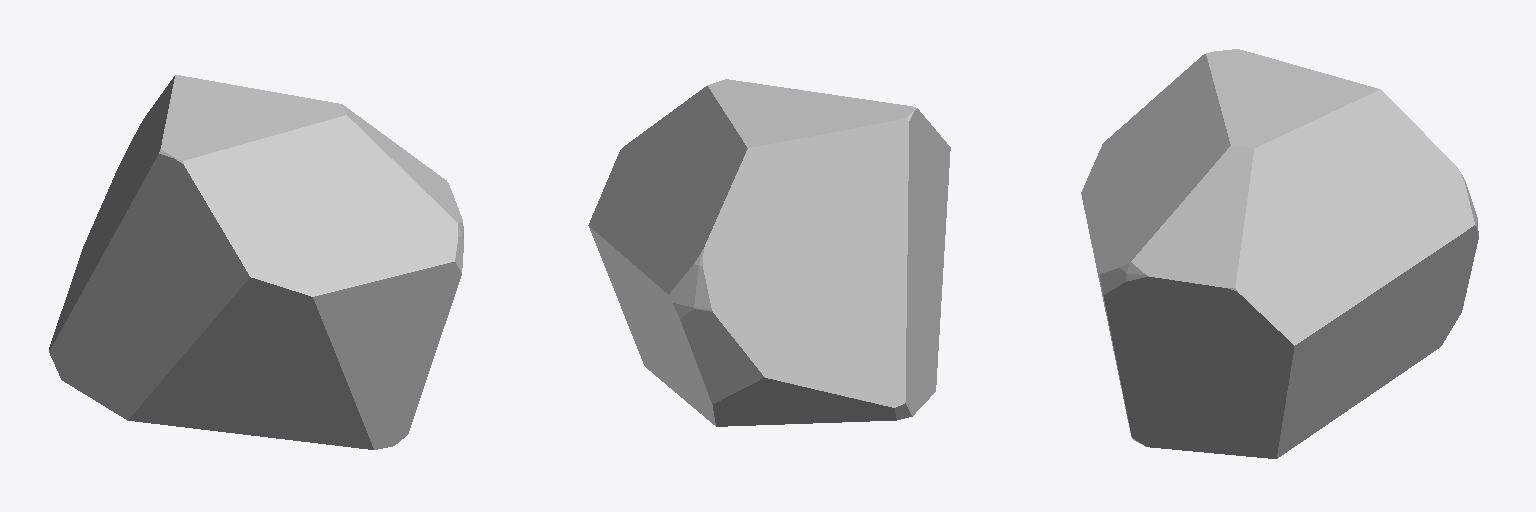
The model's file is rock1.obj.
The picture shows the model from 3 angles: view 1: azimuth 30°, elevation 25°; view 2: azimuth 150°, elevation 25°; view 3: azimuth 270°, elevation 25°; orthographic projection.
Visible parts, largest first — view 1: Cube_Cube.002; view 2: Cube_Cube.002; view 3: Cube_Cube.002.
Boxes of the visible parts, box(x1,y1,x2,y2) form: Cube_Cube.002: box(49, 75, 463, 449); Cube_Cube.002: box(588, 79, 950, 426); Cube_Cube.002: box(1081, 49, 1478, 458).
Size of the model in its own units: 0.851 by 0.7173 by 0.851.